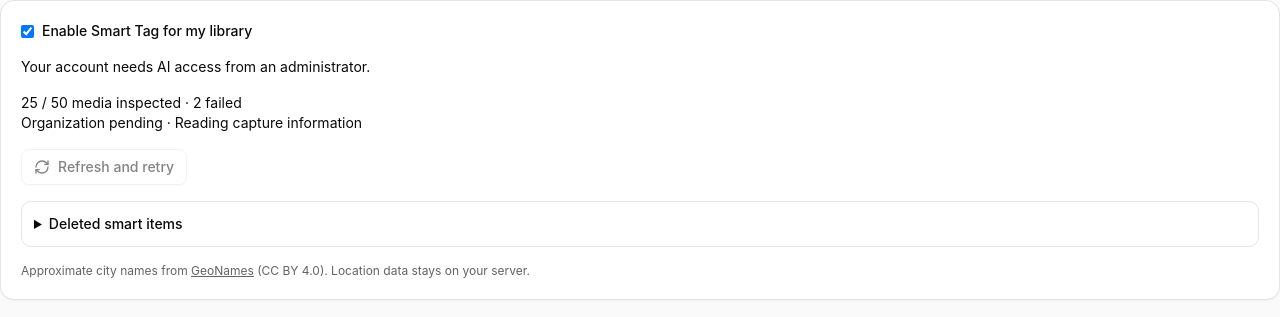
Smart organization settings › explains missing permissions and permits an opted-in user to switch off
Expected: the button "Refresh and retry" is disabled, x1=21 y1=149 x2=187 y2=185
What coordinates should you click on to do the following:
click the checkbox labelled "Enable Smart Tag for my library"
I would click on:
 (28, 31)
Its box is x1=21 y1=24 x2=34 y2=38.
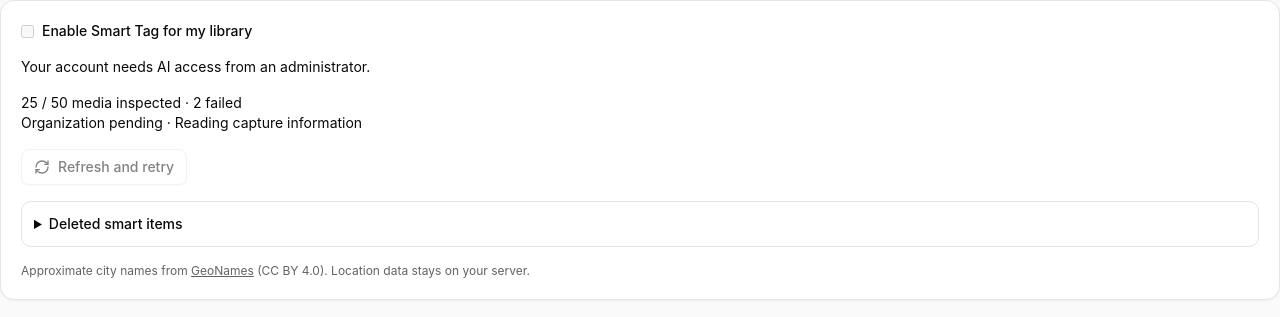
Expected: the checkbox labelled "Enable Smart Tag for my library" is disabled, x1=21 y1=24 x2=34 y2=38
